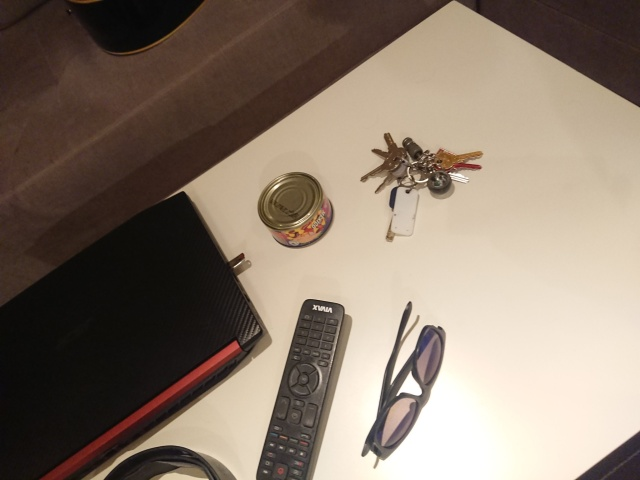Giana Tuna Salad Mexico 185g: (253, 170, 337, 252)
